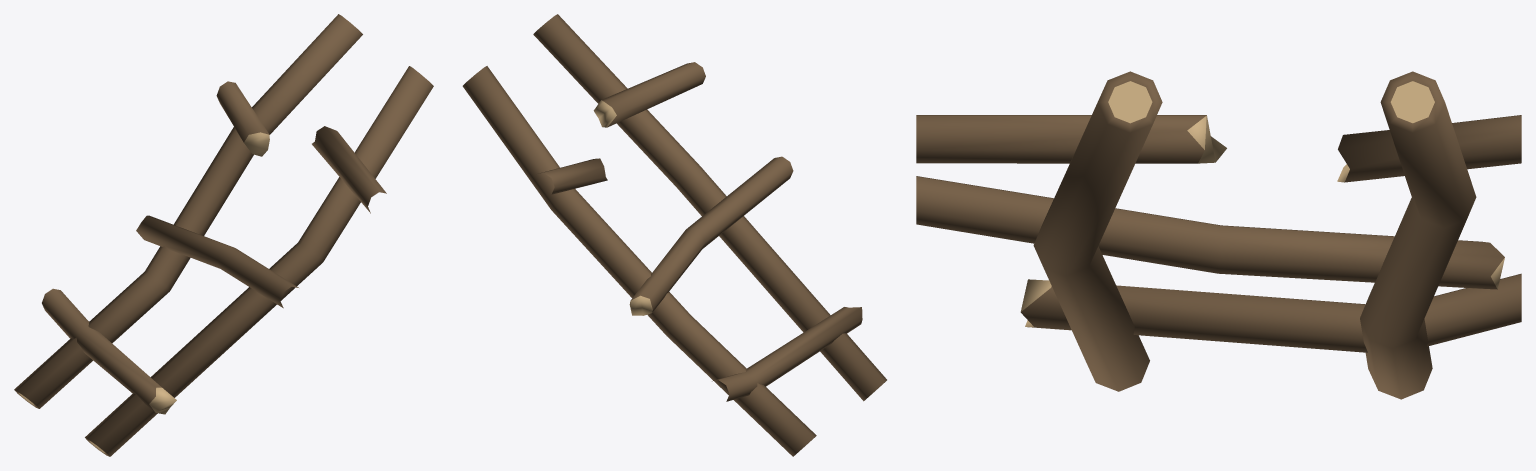
The model's file is rpgpp_av_roof_support_01_6x3x3_half_a.gltf.
3 views of the same model, side by side, from view 1: azimuth 30°, elevation 25°; view 2: azimuth 150°, elevation 25°; view 3: azimuth 270°, elevation 25° (orthographic). The views are drawn at different scales.
Visible parts, largest first — view 1: rpgpp_av_roof_support_01_6x3x3_half_a; view 2: rpgpp_av_roof_support_01_6x3x3_half_a; view 3: rpgpp_av_roof_support_01_6x3x3_half_a.
Boxes of the visible parts, bbox=[...] form: rpgpp_av_roof_support_01_6x3x3_half_a: bbox=[14, 14, 433, 456]; rpgpp_av_roof_support_01_6x3x3_half_a: bbox=[462, 14, 886, 456]; rpgpp_av_roof_support_01_6x3x3_half_a: bbox=[916, 71, 1521, 399].
Bounding box in the file's own units: 0.0396 × 0.0344 × 0.03.
1 material, 1 textured.
